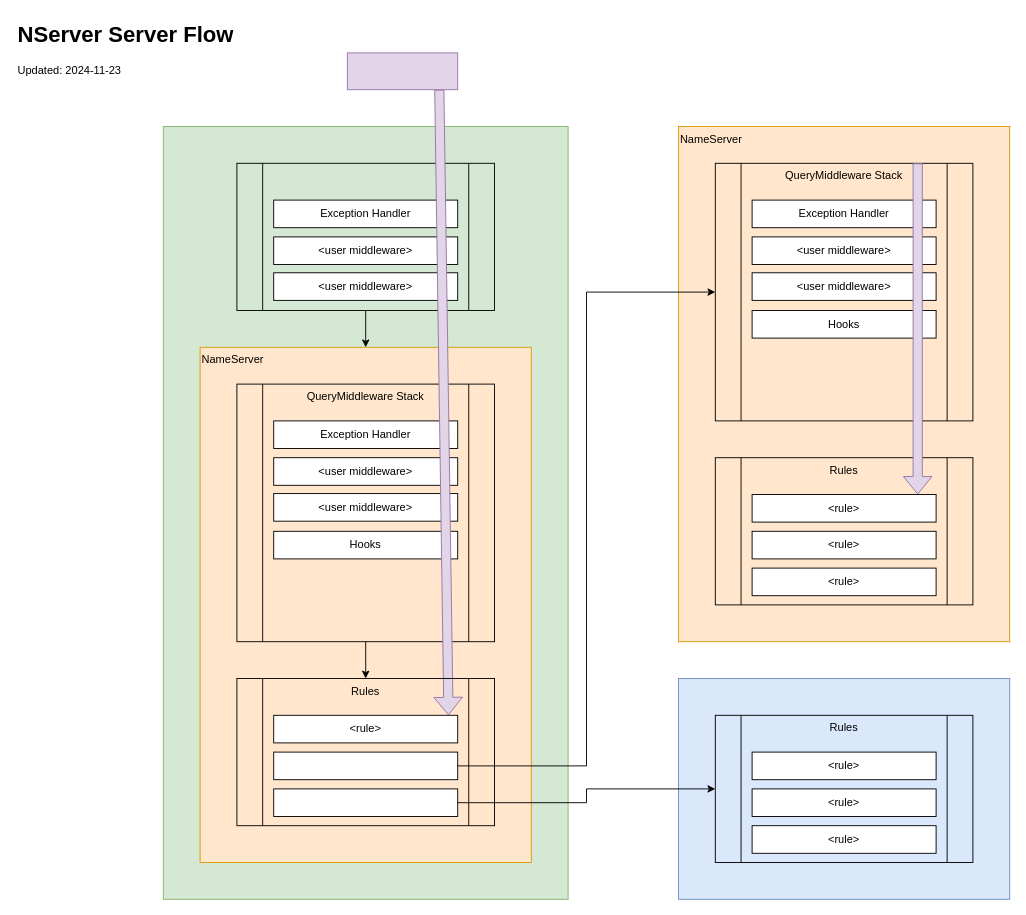
This 1026x915 diagram has some shape labels left out. Here are the shapes that lost their labels. From the top down, the box of each, then its label:
(346, 52, 458, 90): DNS Message
(236, 162, 494, 310): RawMiddleware Stack
(162, 126, 568, 899): RawNameServer
(273, 751, 458, 780): <nameserver rule>
(273, 788, 458, 816): <blueprint rule>
(678, 678, 1010, 899): Blueprint
